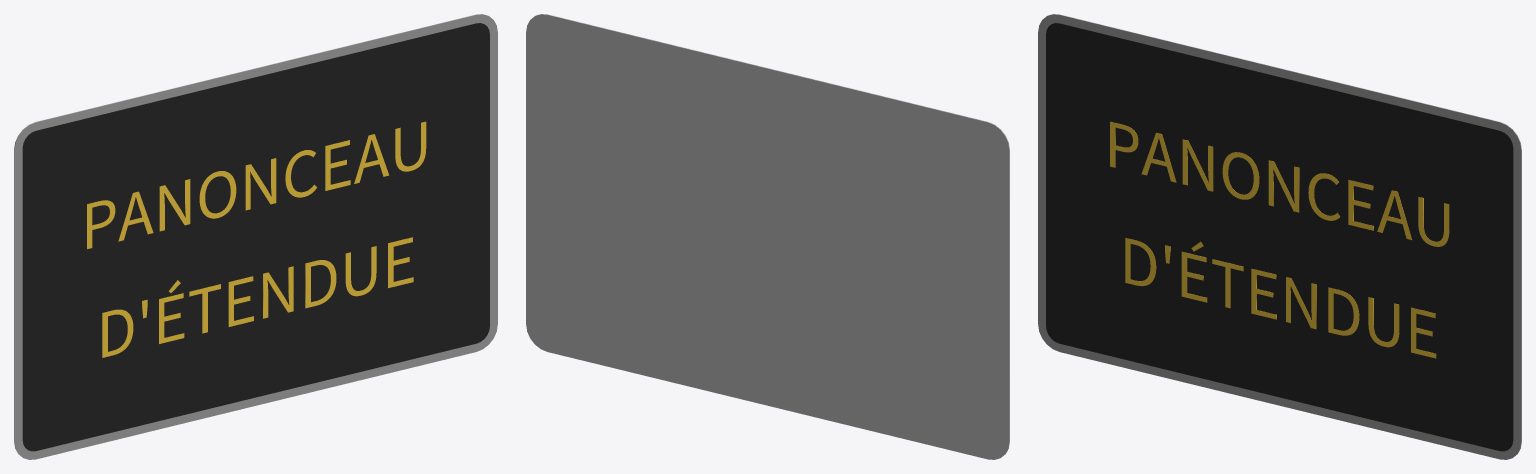
The picture shows the model from 3 angles, left to right: view 1: azimuth 30°, elevation 25°; view 2: azimuth 150°, elevation 25°; view 3: azimuth 330°, elevation 25°; orthographic projection.
Visible parts, largest first — view 1: XM2_r01, XM2_r00, XM2_txt02, XM2_txt03, XM2_dos; view 2: XM2_dos, XM2_r00; view 3: XM2_r01, XM2_r00, XM2_txt02, XM2_txt03, XM2_dos.
Part boxes in pixels (x1,y1,x2,y2): XM2_r01: (22, 23, 489, 451); XM2_r00: (14, 14, 497, 459); XM2_txt02: (87, 121, 426, 248); XM2_txt03: (102, 237, 413, 357); XM2_dos: (14, 14, 487, 452); XM2_dos: (526, 14, 1009, 459); XM2_r00: (542, 14, 1009, 448); XM2_r01: (1046, 23, 1513, 451); XM2_r00: (1038, 14, 1521, 459); XM2_txt02: (1110, 121, 1449, 246); XM2_txt03: (1125, 238, 1436, 358); XM2_dos: (1048, 14, 1521, 452).
Bounding box in the file's own units: 0.9 × 0.6 × 0.0029.
